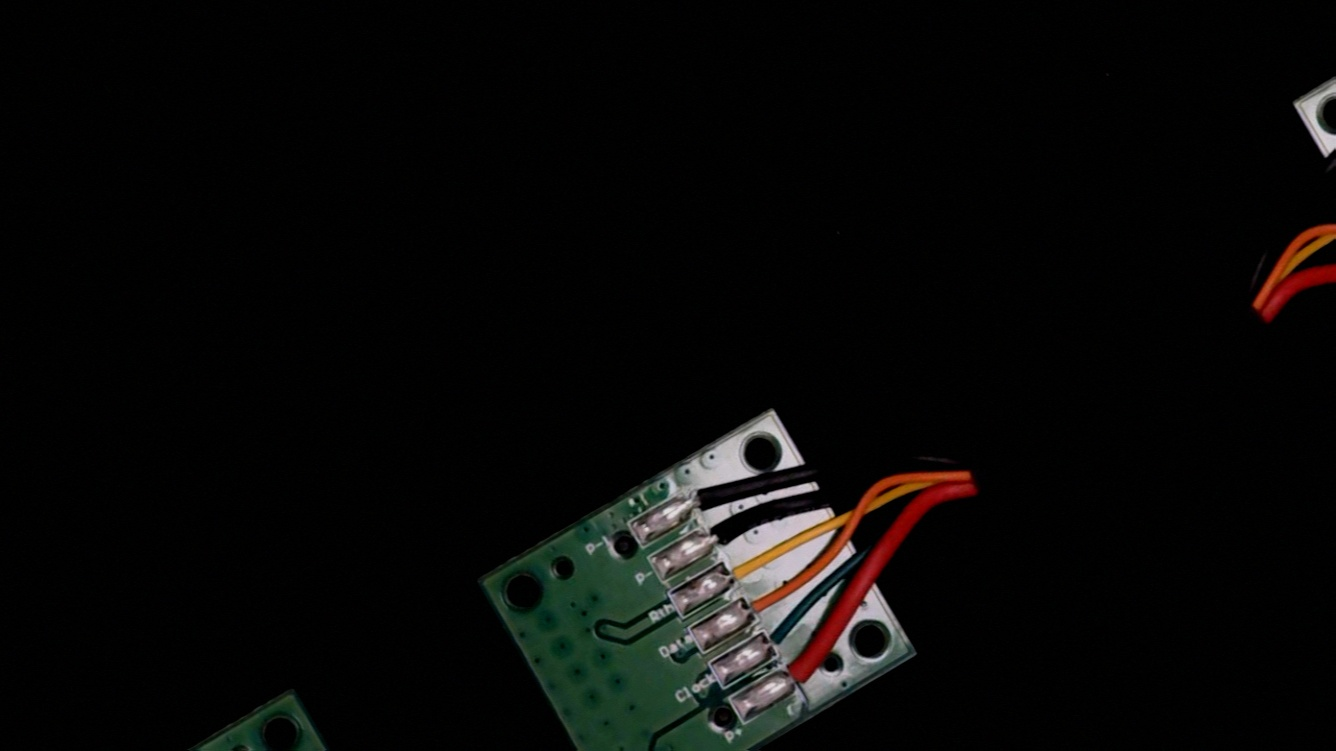Black: (690, 507, 755, 561)
Black1: (670, 471, 736, 526)
Green: (747, 612, 810, 668)
Orange: (728, 576, 792, 633)
Red: (769, 650, 830, 702)
Yellow: (710, 538, 778, 597)
